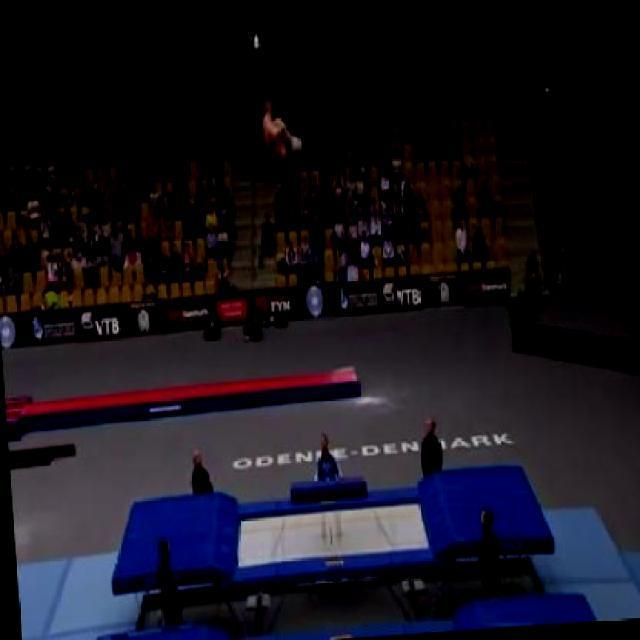non-fight: (252, 88, 306, 168)
